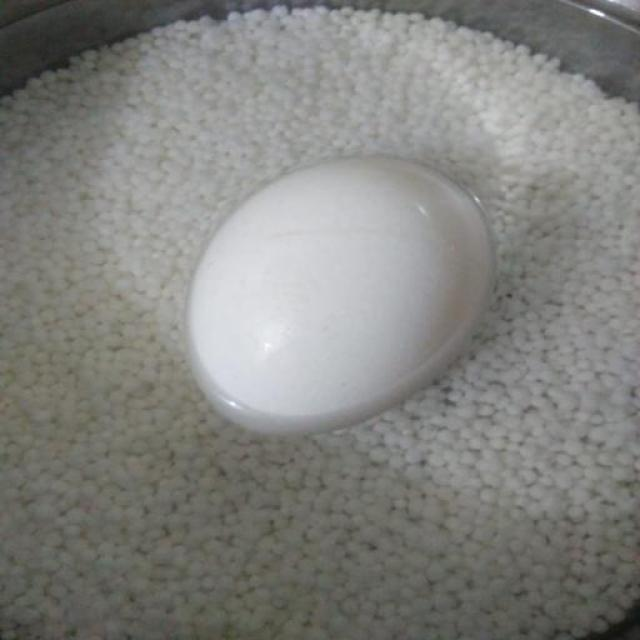telur: (181, 158, 495, 436)
